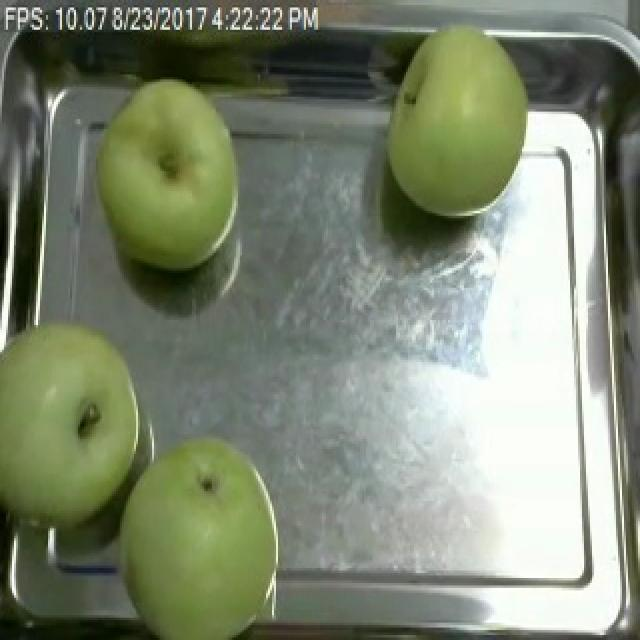50-_ripeness: (120, 437, 279, 639), (95, 74, 250, 278), (382, 26, 532, 216), (0, 327, 138, 527)
